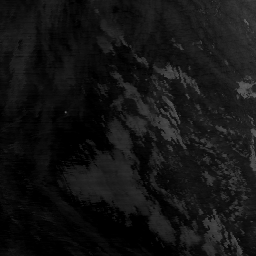Target: (63, 110, 68, 115)
